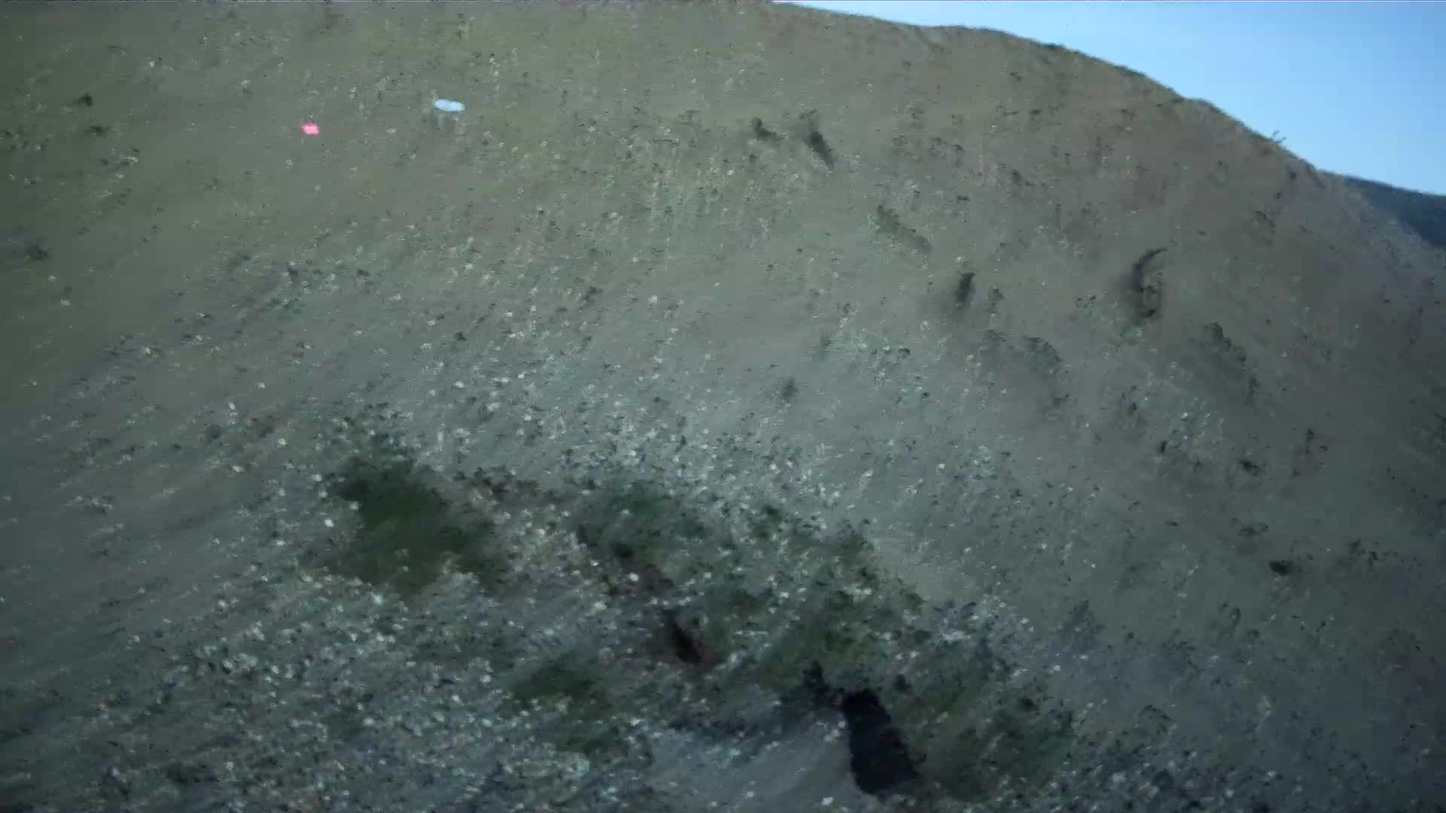Target: (434, 99, 465, 113)
